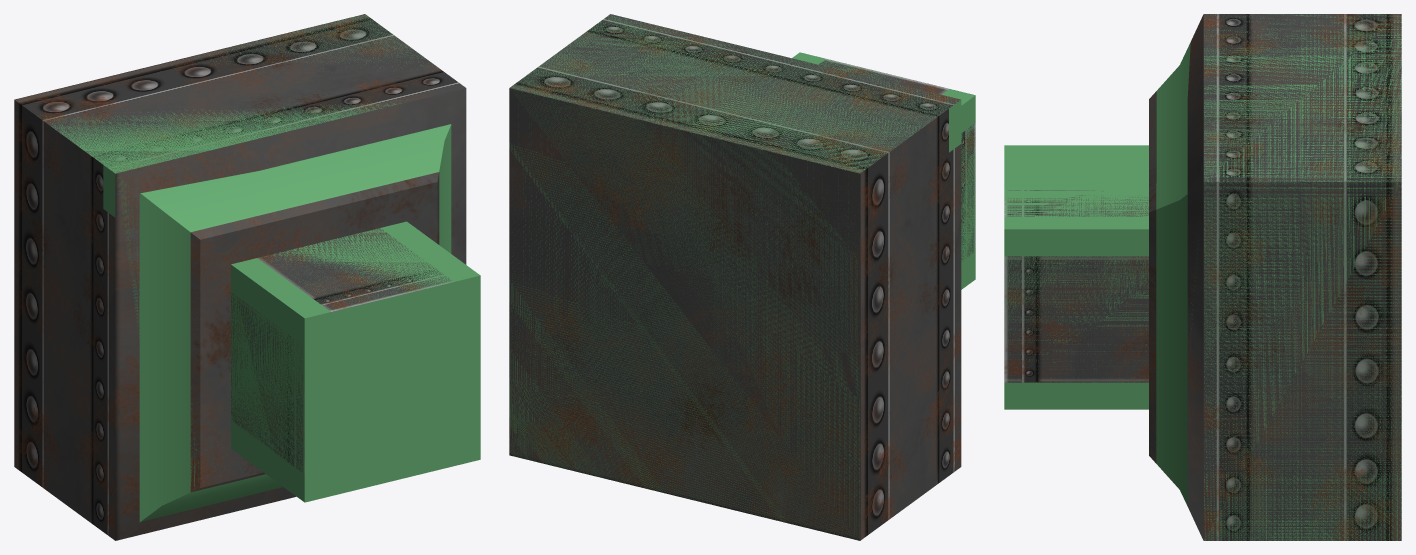
Rendered from stomper.fbx.
The picture shows the model from 3 angles, left to right: view 1: azimuth 30°, elevation 25°; view 2: azimuth 150°, elevation 25°; view 3: azimuth 270°, elevation 25°; orthographic projection. The views are drawn at different scales.
Visible parts, largest first — view 1: head, collDownFloor (×2), collDownWalls (×2), shaft, collSideWalls (×2), collUpWalls, collSideFloor; view 2: head, collUpFloor, collDownWalls (×2), shaft, collUpWalls; view 3: head, collDownWalls (×2), shaft, collDownFloor, collSideFloor, collUpWalls, collSideWalls.
Boxes of the visible parts, <box> form: head: <box>14,14,466,540</box>; collDownFloor (×2): <box>139,124,480,521</box>; collDownWalls (×2): <box>37,14,480,501</box>; shaft: <box>231,228,453,474</box>; collSideWalls (×2): <box>117,177,472,501</box>; collUpWalls: <box>231,259,461,491</box>; collSideFloor: <box>232,244,473,314</box>; head: <box>509,14,961,540</box>; collUpFloor: <box>509,89,859,540</box>; collDownWalls (×2): <box>511,15,975,289</box>; shaft: <box>819,59,975,259</box>; collUpWalls: <box>795,55,975,280</box>; head: <box>1149,14,1401,540</box>; collDownWalls (×2): <box>1004,14,1401,540</box>; shaft: <box>1004,190,1148,382</box>; collDownFloor: <box>1156,42,1190,505</box>; collSideFloor: <box>1004,145,1148,229</box>; collUpWalls: <box>1004,145,1148,409</box>; collSideWalls: <box>1004,229,1148,409</box>.
Bounding box in the file's own units: 1.99 × 1.99 × 2.
9 materials, 8 textured.
